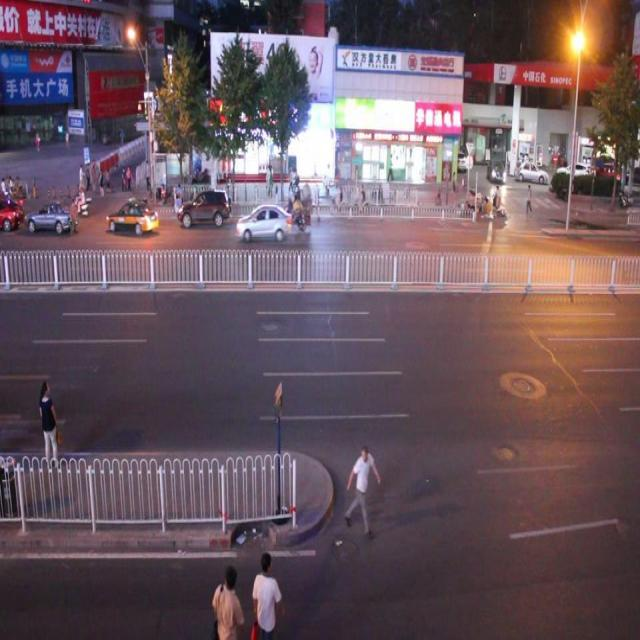car: (236, 203, 301, 244), (173, 188, 230, 232), (103, 197, 156, 240), (26, 199, 72, 234), (517, 159, 549, 188), (486, 156, 508, 185)
